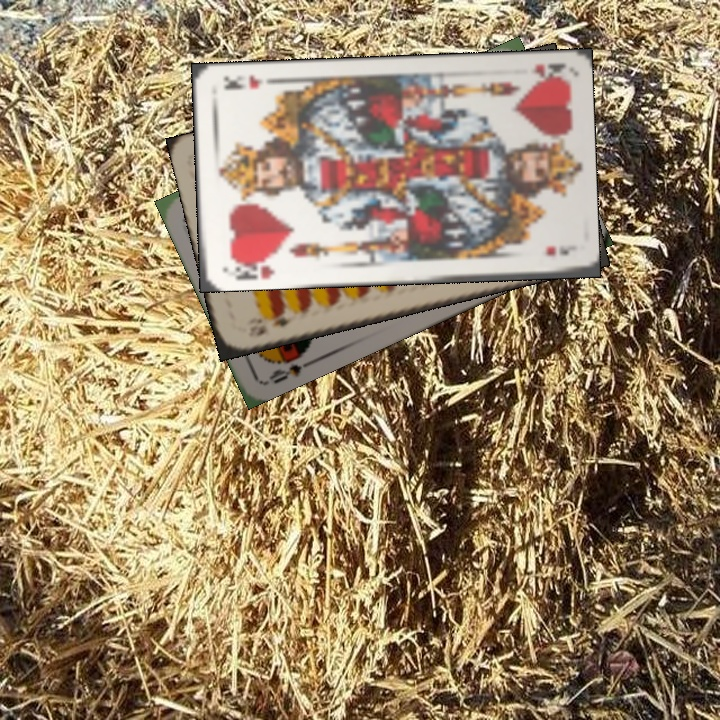E10: (252, 307, 297, 339)
HK: (227, 254, 277, 282), (527, 59, 566, 85)
SO: (264, 343, 319, 387)
